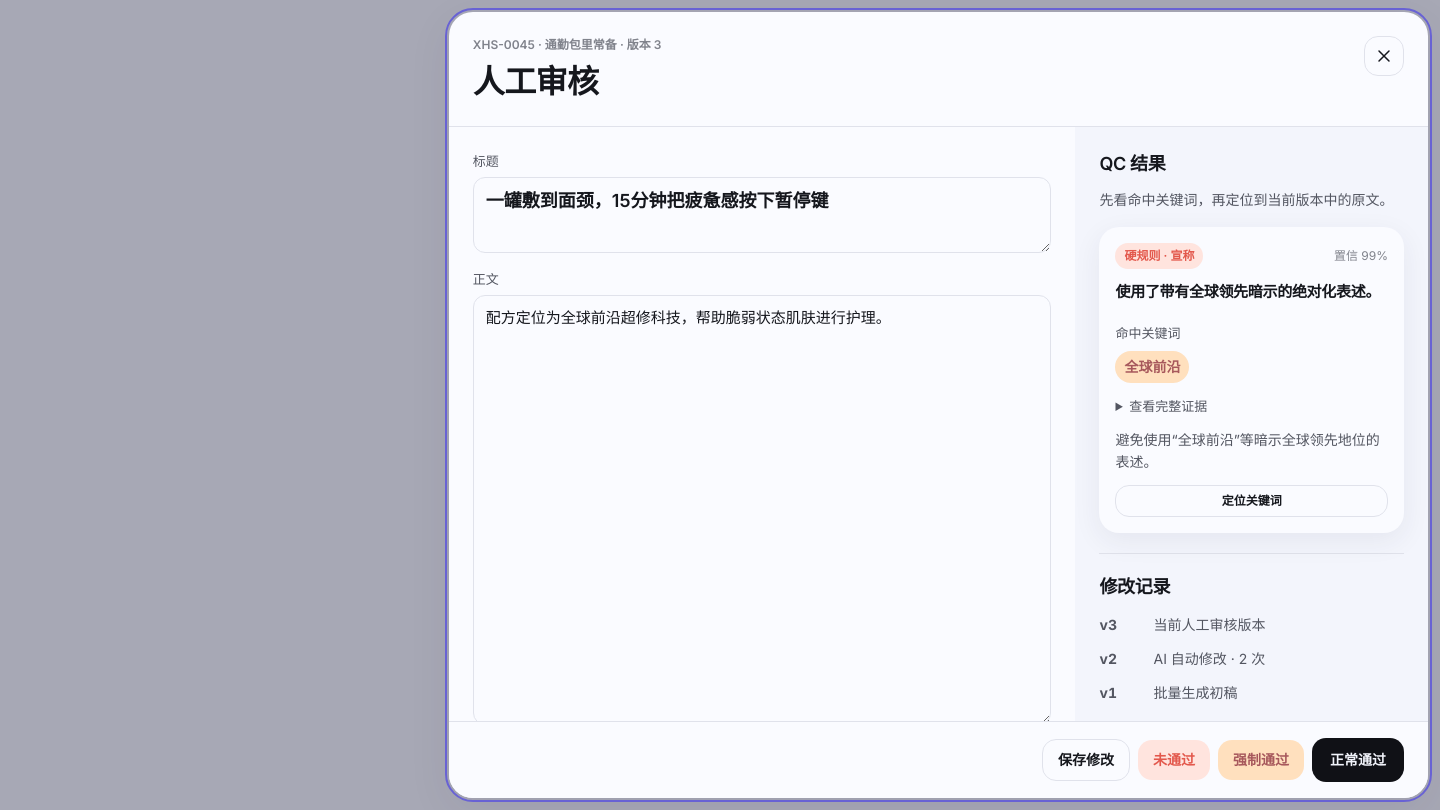
Test case: shows a wrapping title field and locates a quoted keyword in the body
Expected: the text "全球前沿" is shown, [1116, 351, 1190, 383]
Click the button "定位关键词" at (1252, 501), box [1116, 485, 1388, 517]
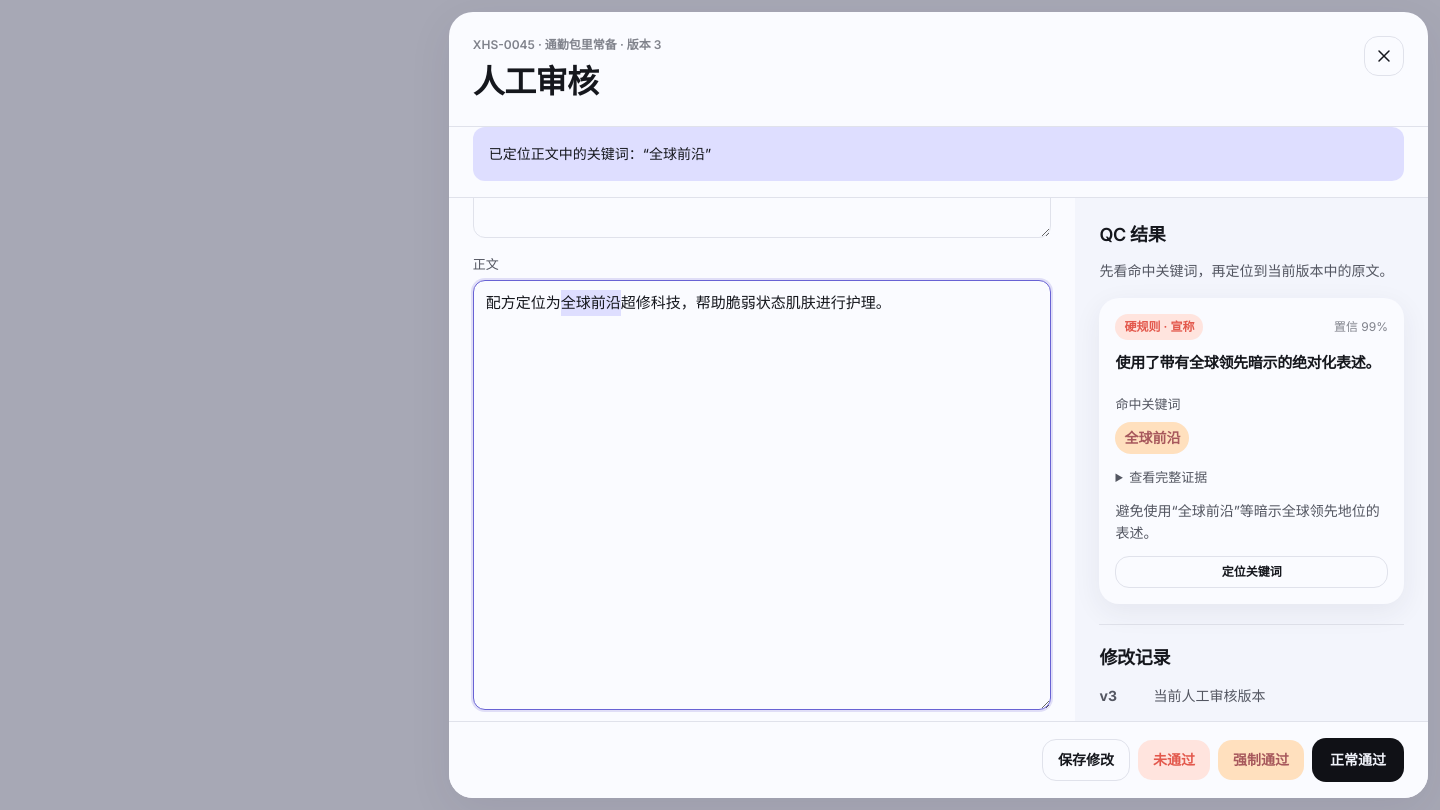
Expected: the text "全球前沿" is shown, [1116, 422, 1190, 454]
Result: the message reads "已定位正文中的关键词：“全球前沿”" at [489, 145, 711, 162]
